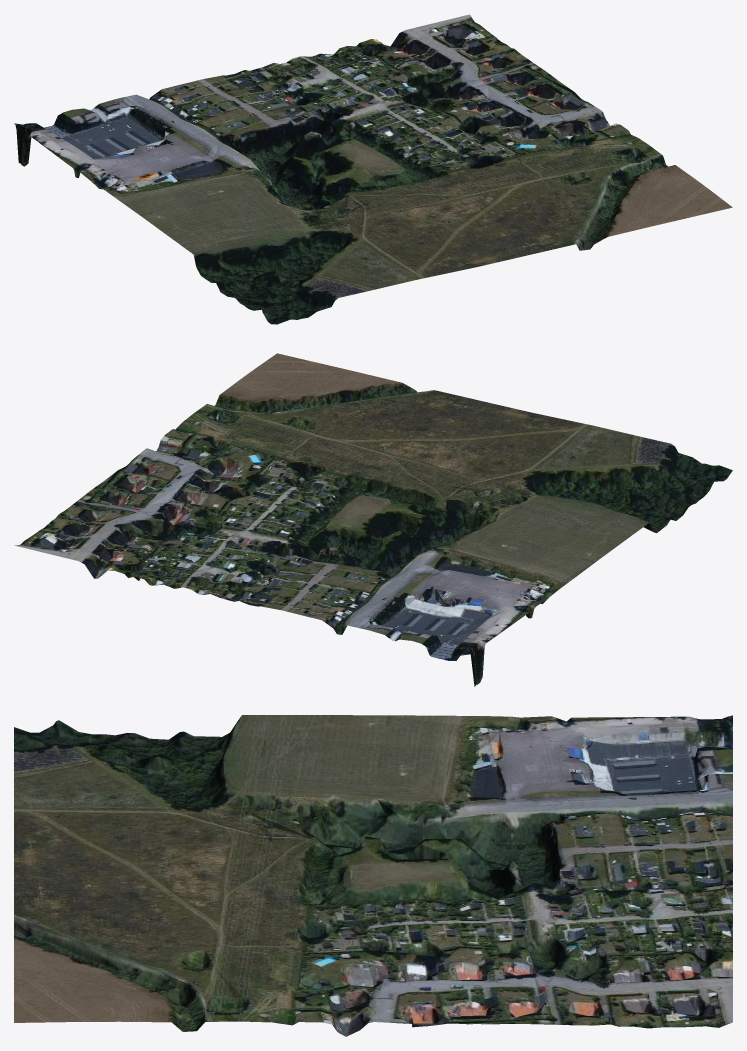
File: map_13_2047_3444.dae
The picture shows the model from 3 angles, top to bottom: view 1: azimuth 30°, elevation 25°; view 2: azimuth 150°, elevation 25°; view 3: azimuth 270°, elevation 25°; orthographic projection. The views are drawn at different scales.
Visible parts, largest first — view 1: Ter0; view 2: Ter0; view 3: Ter0.
Part boxes in pixels (bbox=[...]): Ter0: bbox=[14, 14, 732, 324]; Ter0: bbox=[14, 353, 732, 686]; Ter0: bbox=[14, 715, 732, 1036].
Size of the model in its own units: 256 by 256 by 21.
2 materials, 2 textured.
